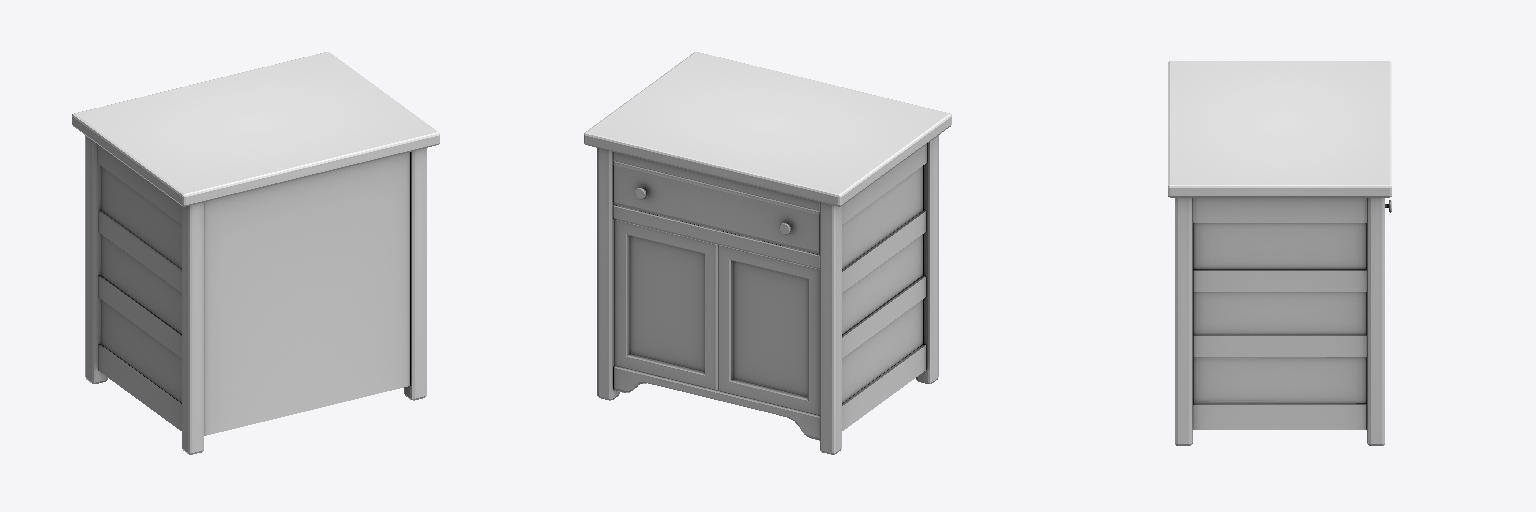
3 views of the same model, side by side, from view 1: azimuth 30°, elevation 25°; view 2: azimuth 150°, elevation 25°; view 3: azimuth 270°, elevation 25° (orthographic).
Parts seen in each view (by area): view 1: Cube.000_Cube.028; view 2: Cube.000_Cube.028; view 3: Cube.000_Cube.028.
Part boxes in pixels (x1,y1,x2,y2): Cube.000_Cube.028: (72, 52, 439, 454); Cube.000_Cube.028: (584, 52, 951, 454); Cube.000_Cube.028: (1168, 61, 1391, 445).
Bounding box in the file's own units: 4.63 × 4.57 × 3.5.
Materials: 1 (1 with a texture image).